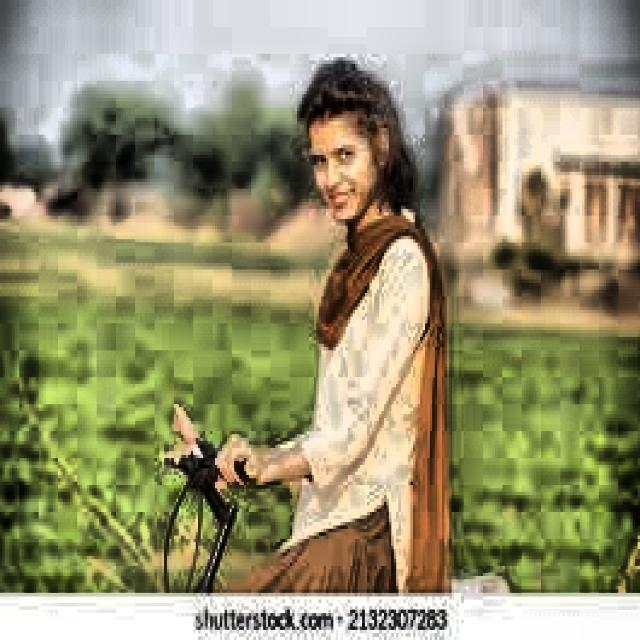Human: (228, 42, 466, 586)
